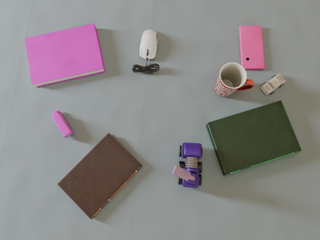book: (58, 133, 142, 219), (206, 100, 301, 175), (25, 24, 105, 87)
cup: (215, 63, 254, 97)
mouse: (140, 30, 158, 60)
phone: (239, 26, 265, 69)
toy_car: (172, 143, 202, 188), (52, 110, 73, 138), (260, 74, 285, 95)
